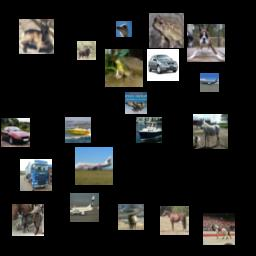airplane: (75, 147, 113, 185), (70, 193, 99, 222), (125, 92, 147, 114), (200, 73, 219, 92)
automobile: (147, 49, 179, 81), (1, 118, 30, 147)
bird: (116, 21, 132, 37)
cat: (12, 204, 44, 236)
deer: (19, 19, 54, 54), (118, 204, 144, 230), (77, 41, 96, 60)
dog: (187, 24, 225, 62)
frog: (105, 49, 143, 87), (149, 13, 184, 48)
ship: (136, 117, 162, 143), (65, 117, 91, 143)
truck: (20, 159, 52, 191)
